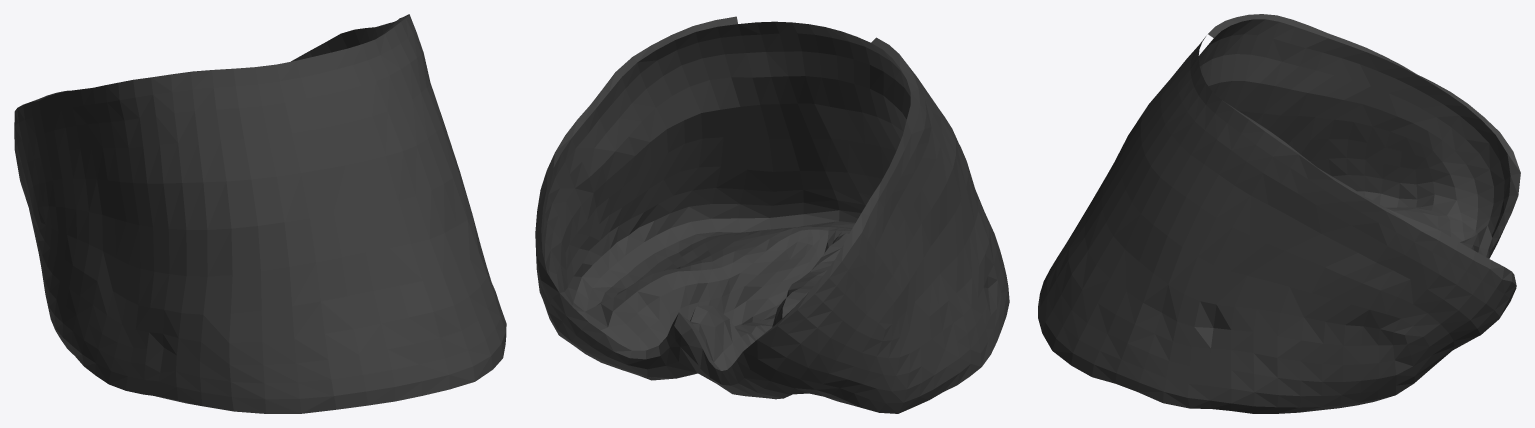
File: Hoof_LHL.glb
The picture shows the model from 3 angles, left to right: view 1: azimuth 30°, elevation 25°; view 2: azimuth 150°, elevation 25°; view 3: azimuth 270°, elevation 25°; orthographic projection. The views are drawn at different scales.
Visible parts, largest first — view 1: Hoof_LHL; view 2: Hoof_LHL; view 3: Hoof_LHL.
Boxes of the visible parts, x1,y1,x2,y2 form: Hoof_LHL: (14,14,506,413); Hoof_LHL: (535,16,1009,413); Hoof_LHL: (1038,14,1520,413).
Bounding box in the file's own units: 0.1223 × 0.0973 × 0.1515.
Materials: 1 (1 with a texture image).
